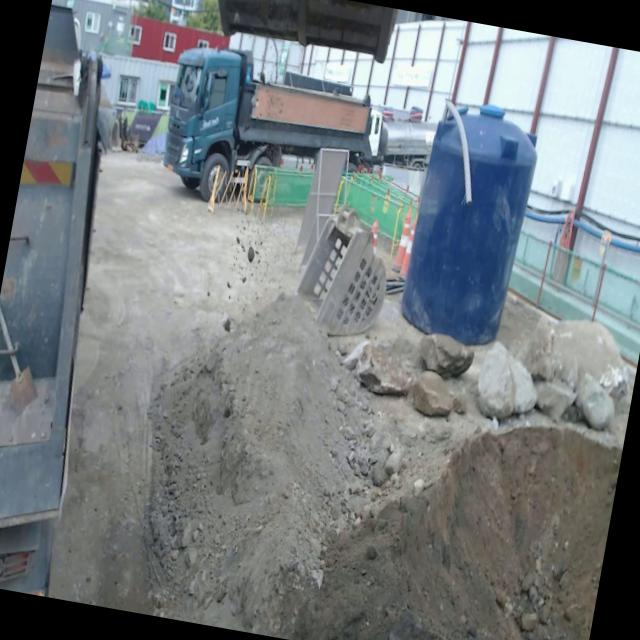stone: (521, 320, 628, 392), (477, 342, 537, 419), (356, 345, 413, 395), (418, 334, 474, 378), (574, 373, 614, 429), (407, 370, 454, 416), (535, 381, 575, 419)
white-sand: (49, 165, 634, 640)
